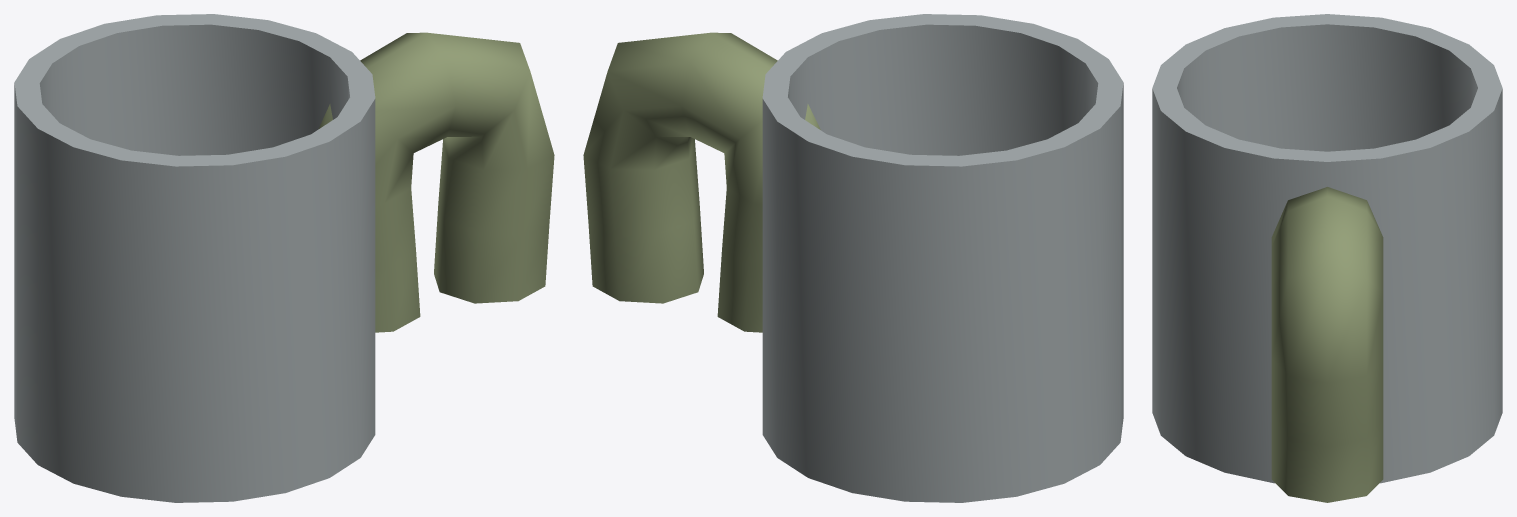
Rendered from scavengers-loot-library-metal-cup-111d7ed1__2650.glb.
3 renders of one model, left to right at view 1: azimuth 30°, elevation 25°; view 2: azimuth 150°, elevation 25°; view 3: azimuth 270°, elevation 25°, orthographic. The views are drawn at different scales.
Parts seen in each view (by area): view 1: metal-cup; view 2: metal-cup; view 3: metal-cup.
Boxes of the visible parts, x1,y1,x2,y2 form: metal-cup: [14, 14, 554, 502]; metal-cup: [583, 14, 1123, 502]; metal-cup: [1152, 14, 1502, 502].
Bounding box in the file's own units: 0.1431 × 0.0903 × 0.088.
